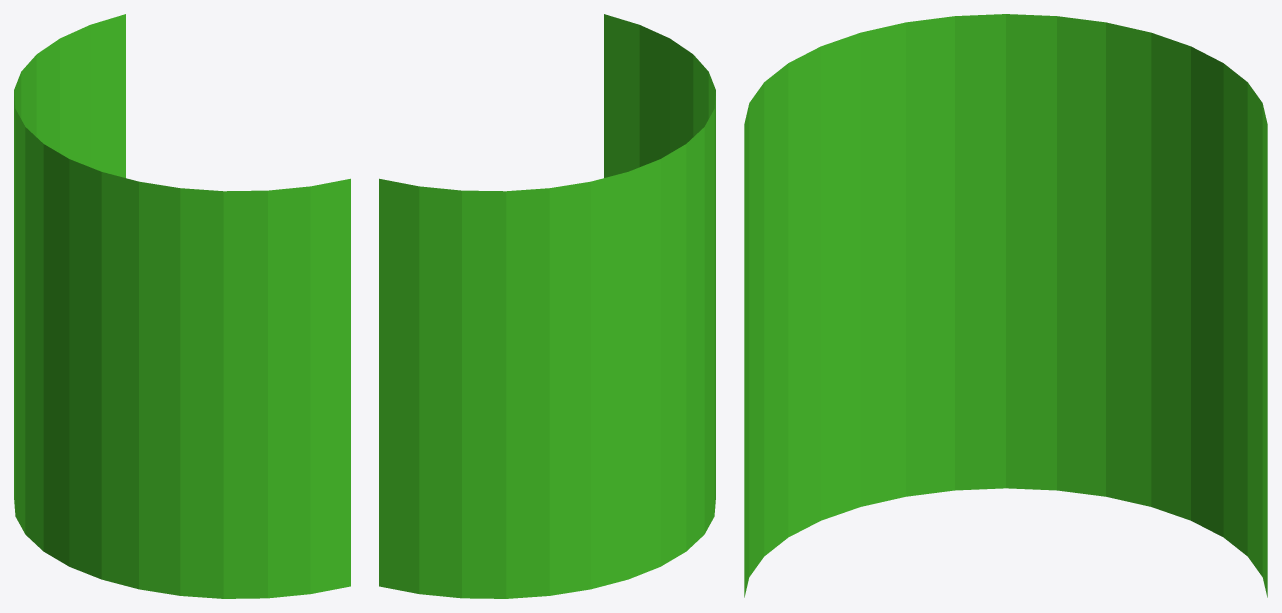
The model's file is katto.fbx.
3 renders of one model, left to right at view 1: azimuth 30°, elevation 25°; view 2: azimuth 150°, elevation 25°; view 3: azimuth 270°, elevation 25°, orthographic. The views are drawn at different scales.
Visible parts, largest first — view 1: Cylinder; view 2: Cylinder; view 3: Cylinder.
Boxes of the visible parts, left/top/right/bottom form: Cylinder: left=14, top=14, right=350, bottom=598; Cylinder: left=379, top=14, right=715, bottom=598; Cylinder: left=744, top=14, right=1267, bottom=597.
Bounding box in the file's own units: 200 × 200 × 100.
